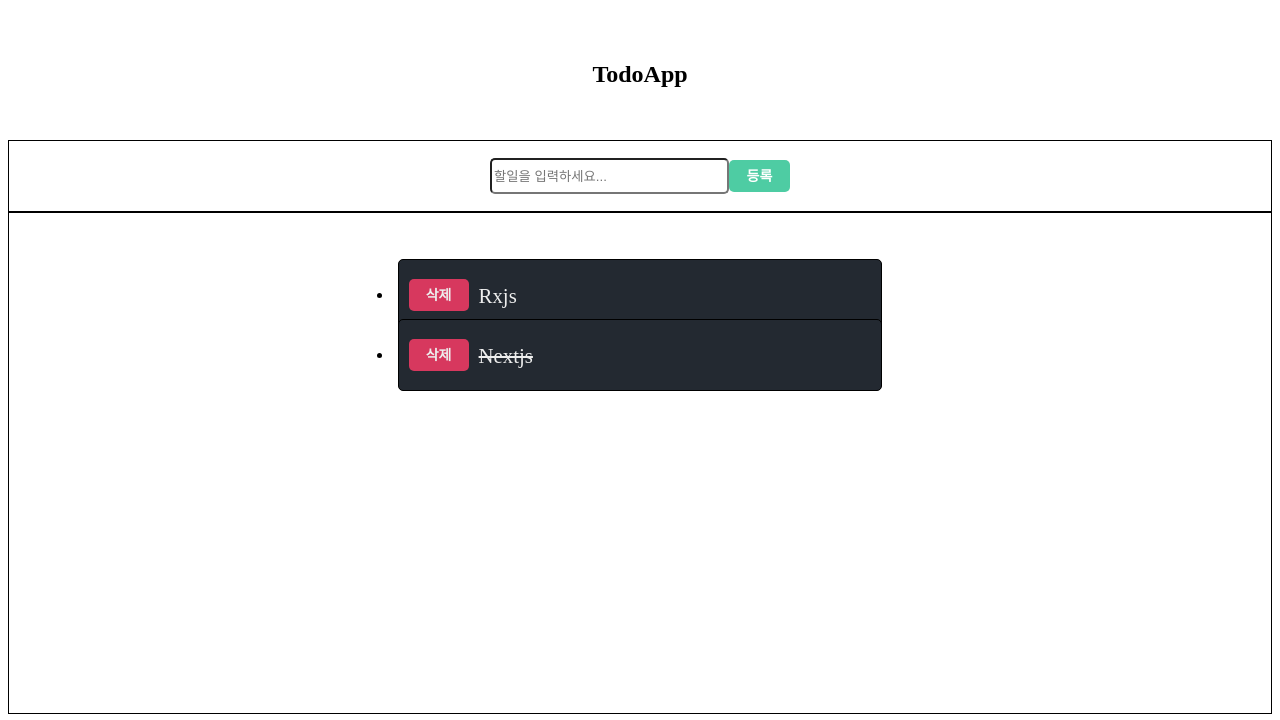
it: <TodoApp /> › creates new todo
# 이벤트를 발생시켜서 새 항목을 추가하면
In the field with placeholder "할일을 입력하세요...": (609, 176) [490,158,729,194], type "새 항목 추가하기"
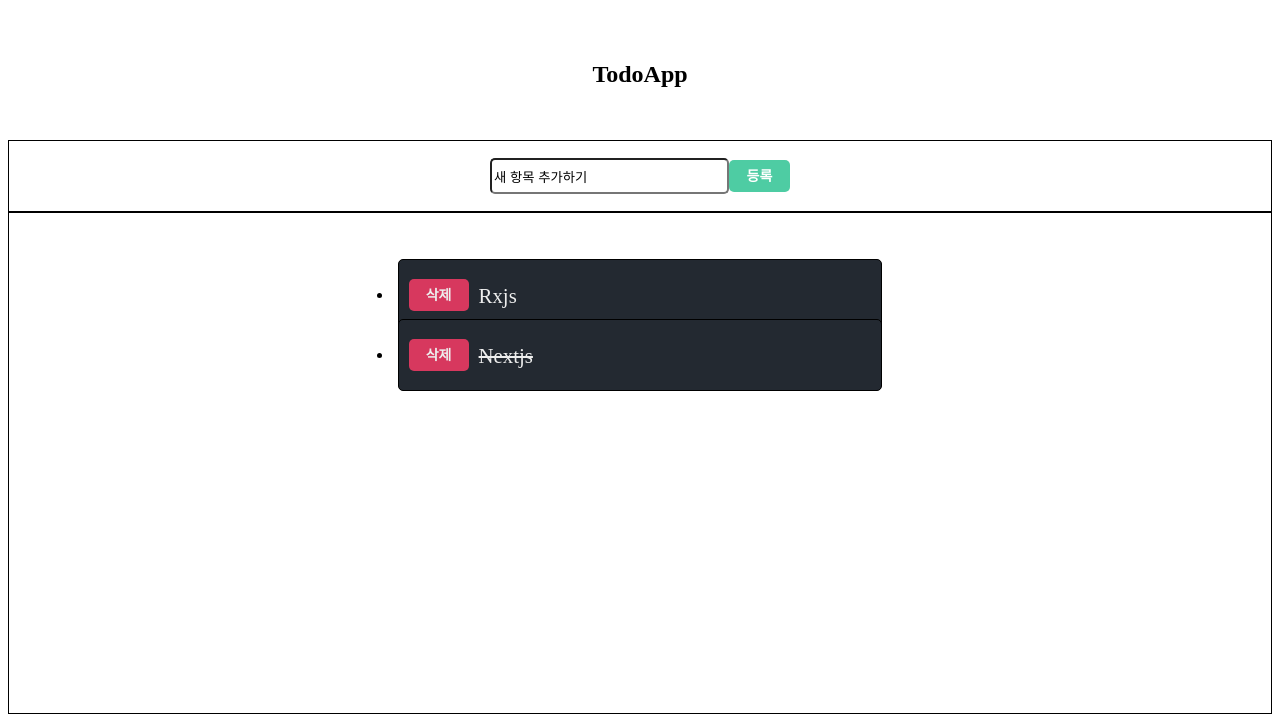
Click the button "등록": (759, 176) [729,160,790,192]
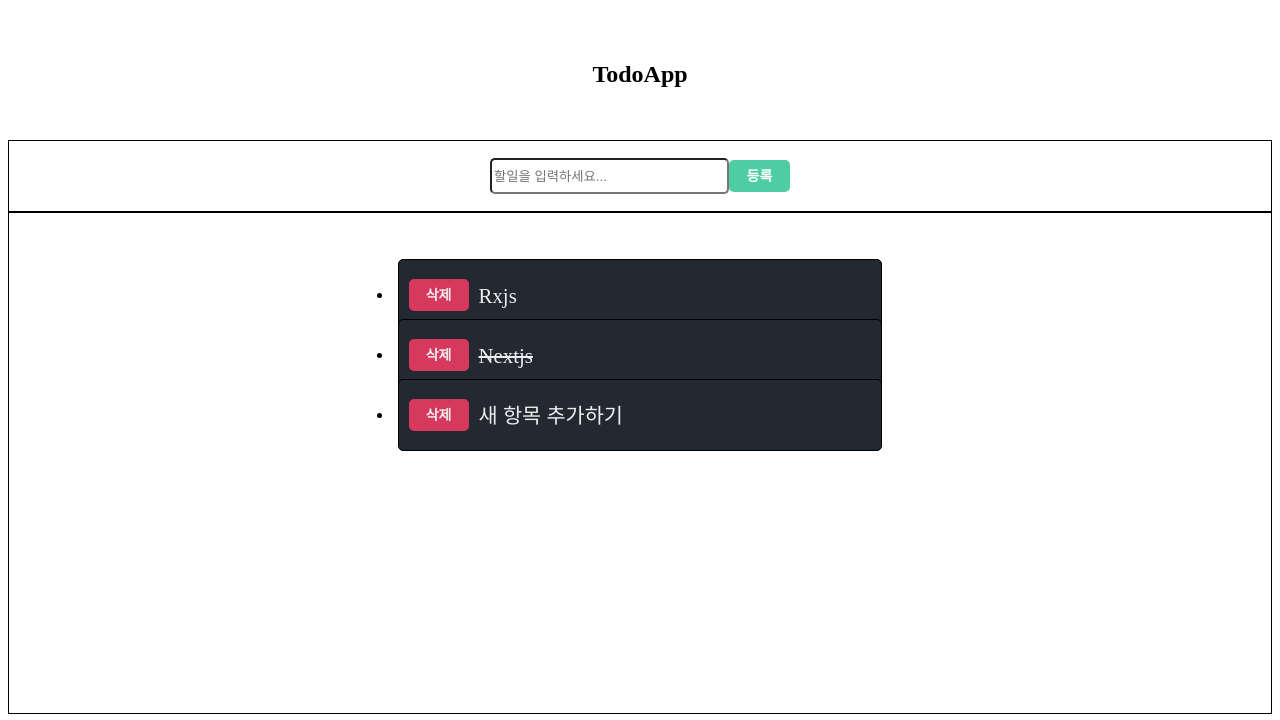
Now the text "새 항목 추가하기" is shown, box [469,400,623,431]
